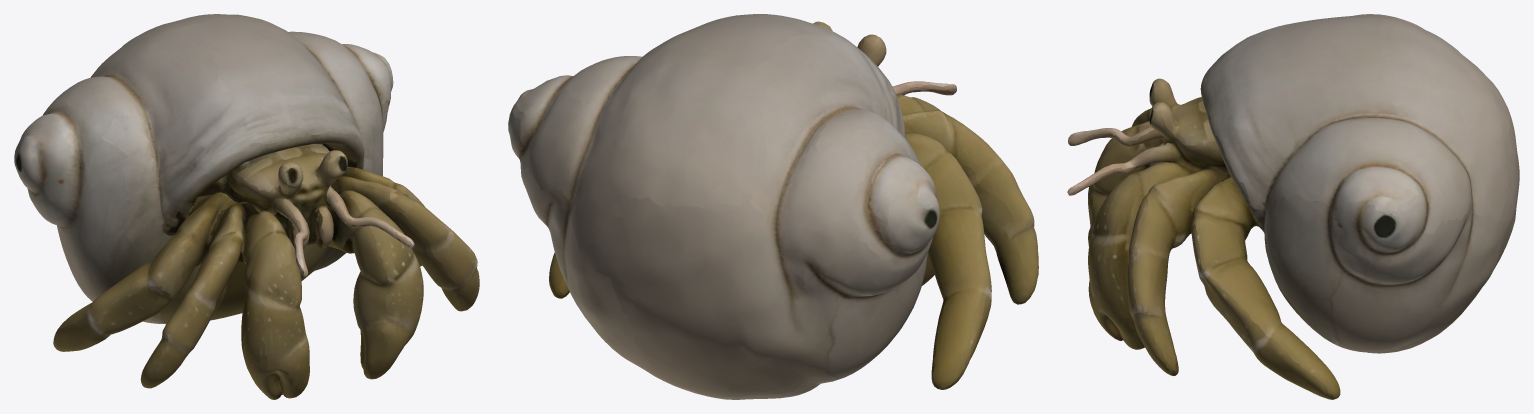
The model's file is hermit.glb.
3 renders of one model, left to right at view 1: azimuth 30°, elevation 25°; view 2: azimuth 150°, elevation 25°; view 3: azimuth 270°, elevation 25°, orthographic. The views are drawn at different scales.
Visible parts, largest first — view 1: tmp537lpy2b.ply; view 2: tmp537lpy2b.ply; view 3: tmp537lpy2b.ply.
Part boxes in pixels (x1=…): tmp537lpy2b.ply: x1=14, y1=14, x2=479, y2=399; tmp537lpy2b.ply: x1=508, y1=14, x2=1038, y2=399; tmp537lpy2b.ply: x1=1067, y1=14, x2=1519, y2=399.
Bounding box in the file's own units: 0.9476 × 0.7191 × 0.9729.
1 material, 1 textured.
